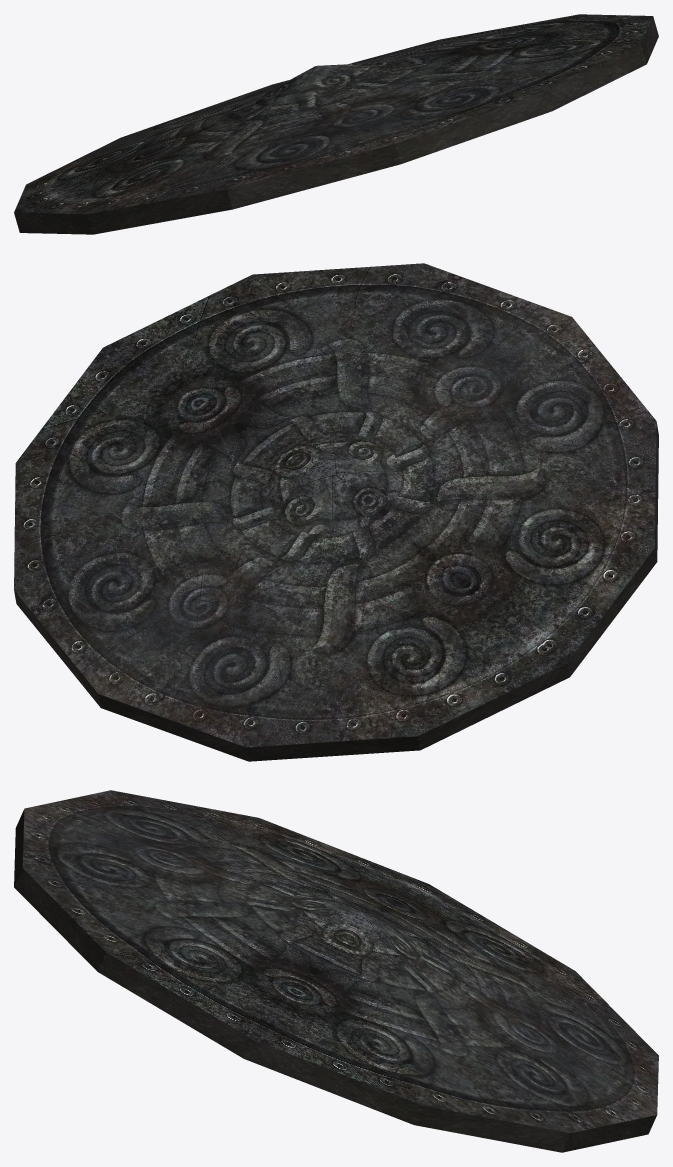
The model's file is ITAR_SHIELD_05.glb.
3 renders of one model, top to bottom at view 1: azimuth 30°, elevation 25°; view 2: azimuth 150°, elevation 25°; view 3: azimuth 270°, elevation 25°, orthographic. The views are drawn at different scales.
Parts seen in each view (by area): view 1: ITAR_SHIELD_05; view 2: ITAR_SHIELD_05; view 3: ITAR_SHIELD_05.
Part boxes in pixels (bbox=[...]): ITAR_SHIELD_05: bbox=[14, 14, 658, 234]; ITAR_SHIELD_05: bbox=[14, 263, 658, 761]; ITAR_SHIELD_05: bbox=[14, 790, 658, 1152].
Bounding box in the file's own units: 0.7865 × 0.3374 × 0.7325.
Materials: 1 (1 with a texture image).
